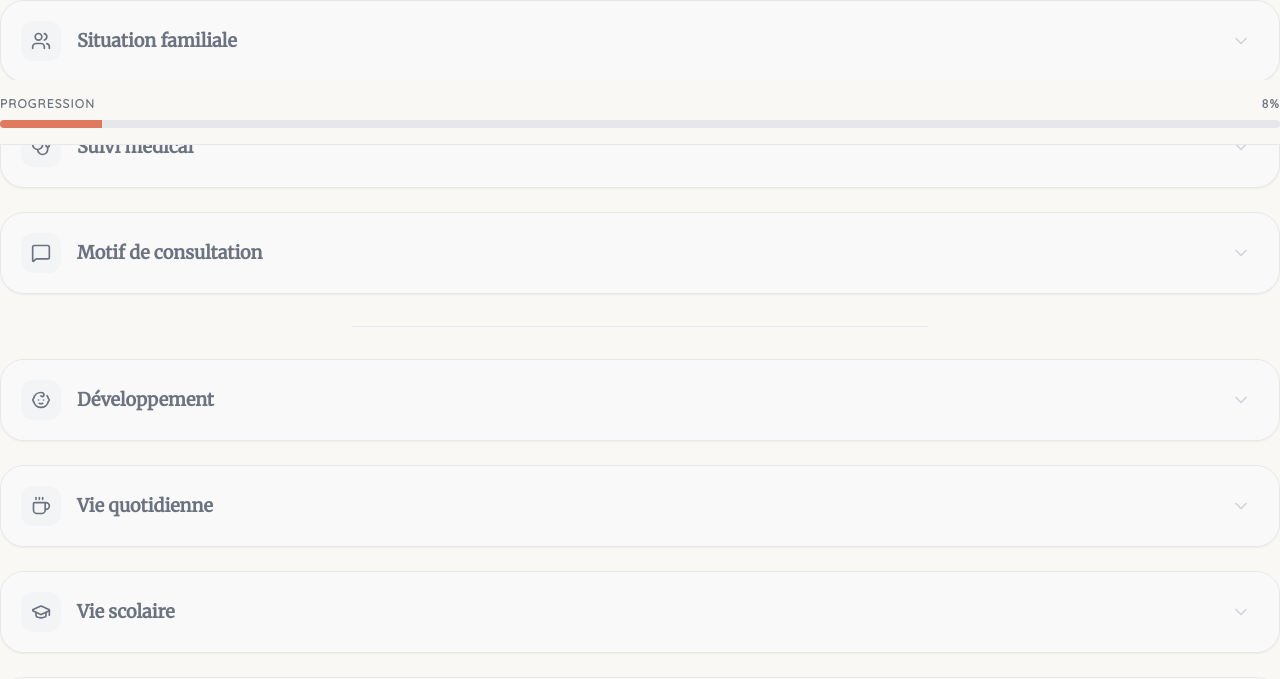
Test: SharedQuestionnaire : retours de la testeuse sur le questionnaire parents › ne propose plus « Réveil très matinal » dans le sommeil (#96)
(page scrolled)
Click the button "Développement" at (41, 400), box 1,360 -> 1279,440
(page scrolled)
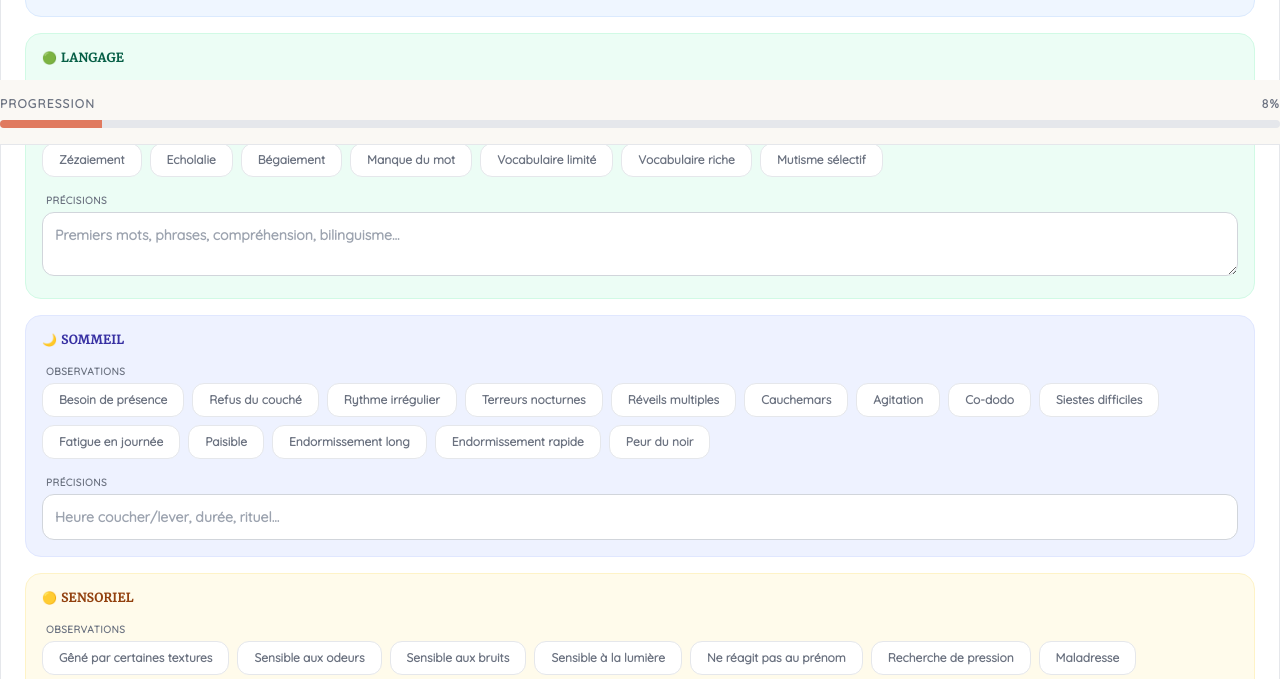
Check: the button "Terreurs nocturnes" is shown, box 465,383 -> 603,417
